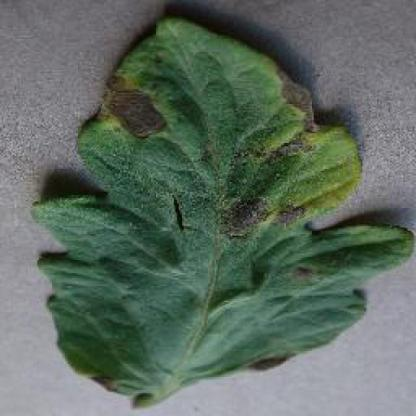Tomato_Blight: (35, 19, 413, 386)
